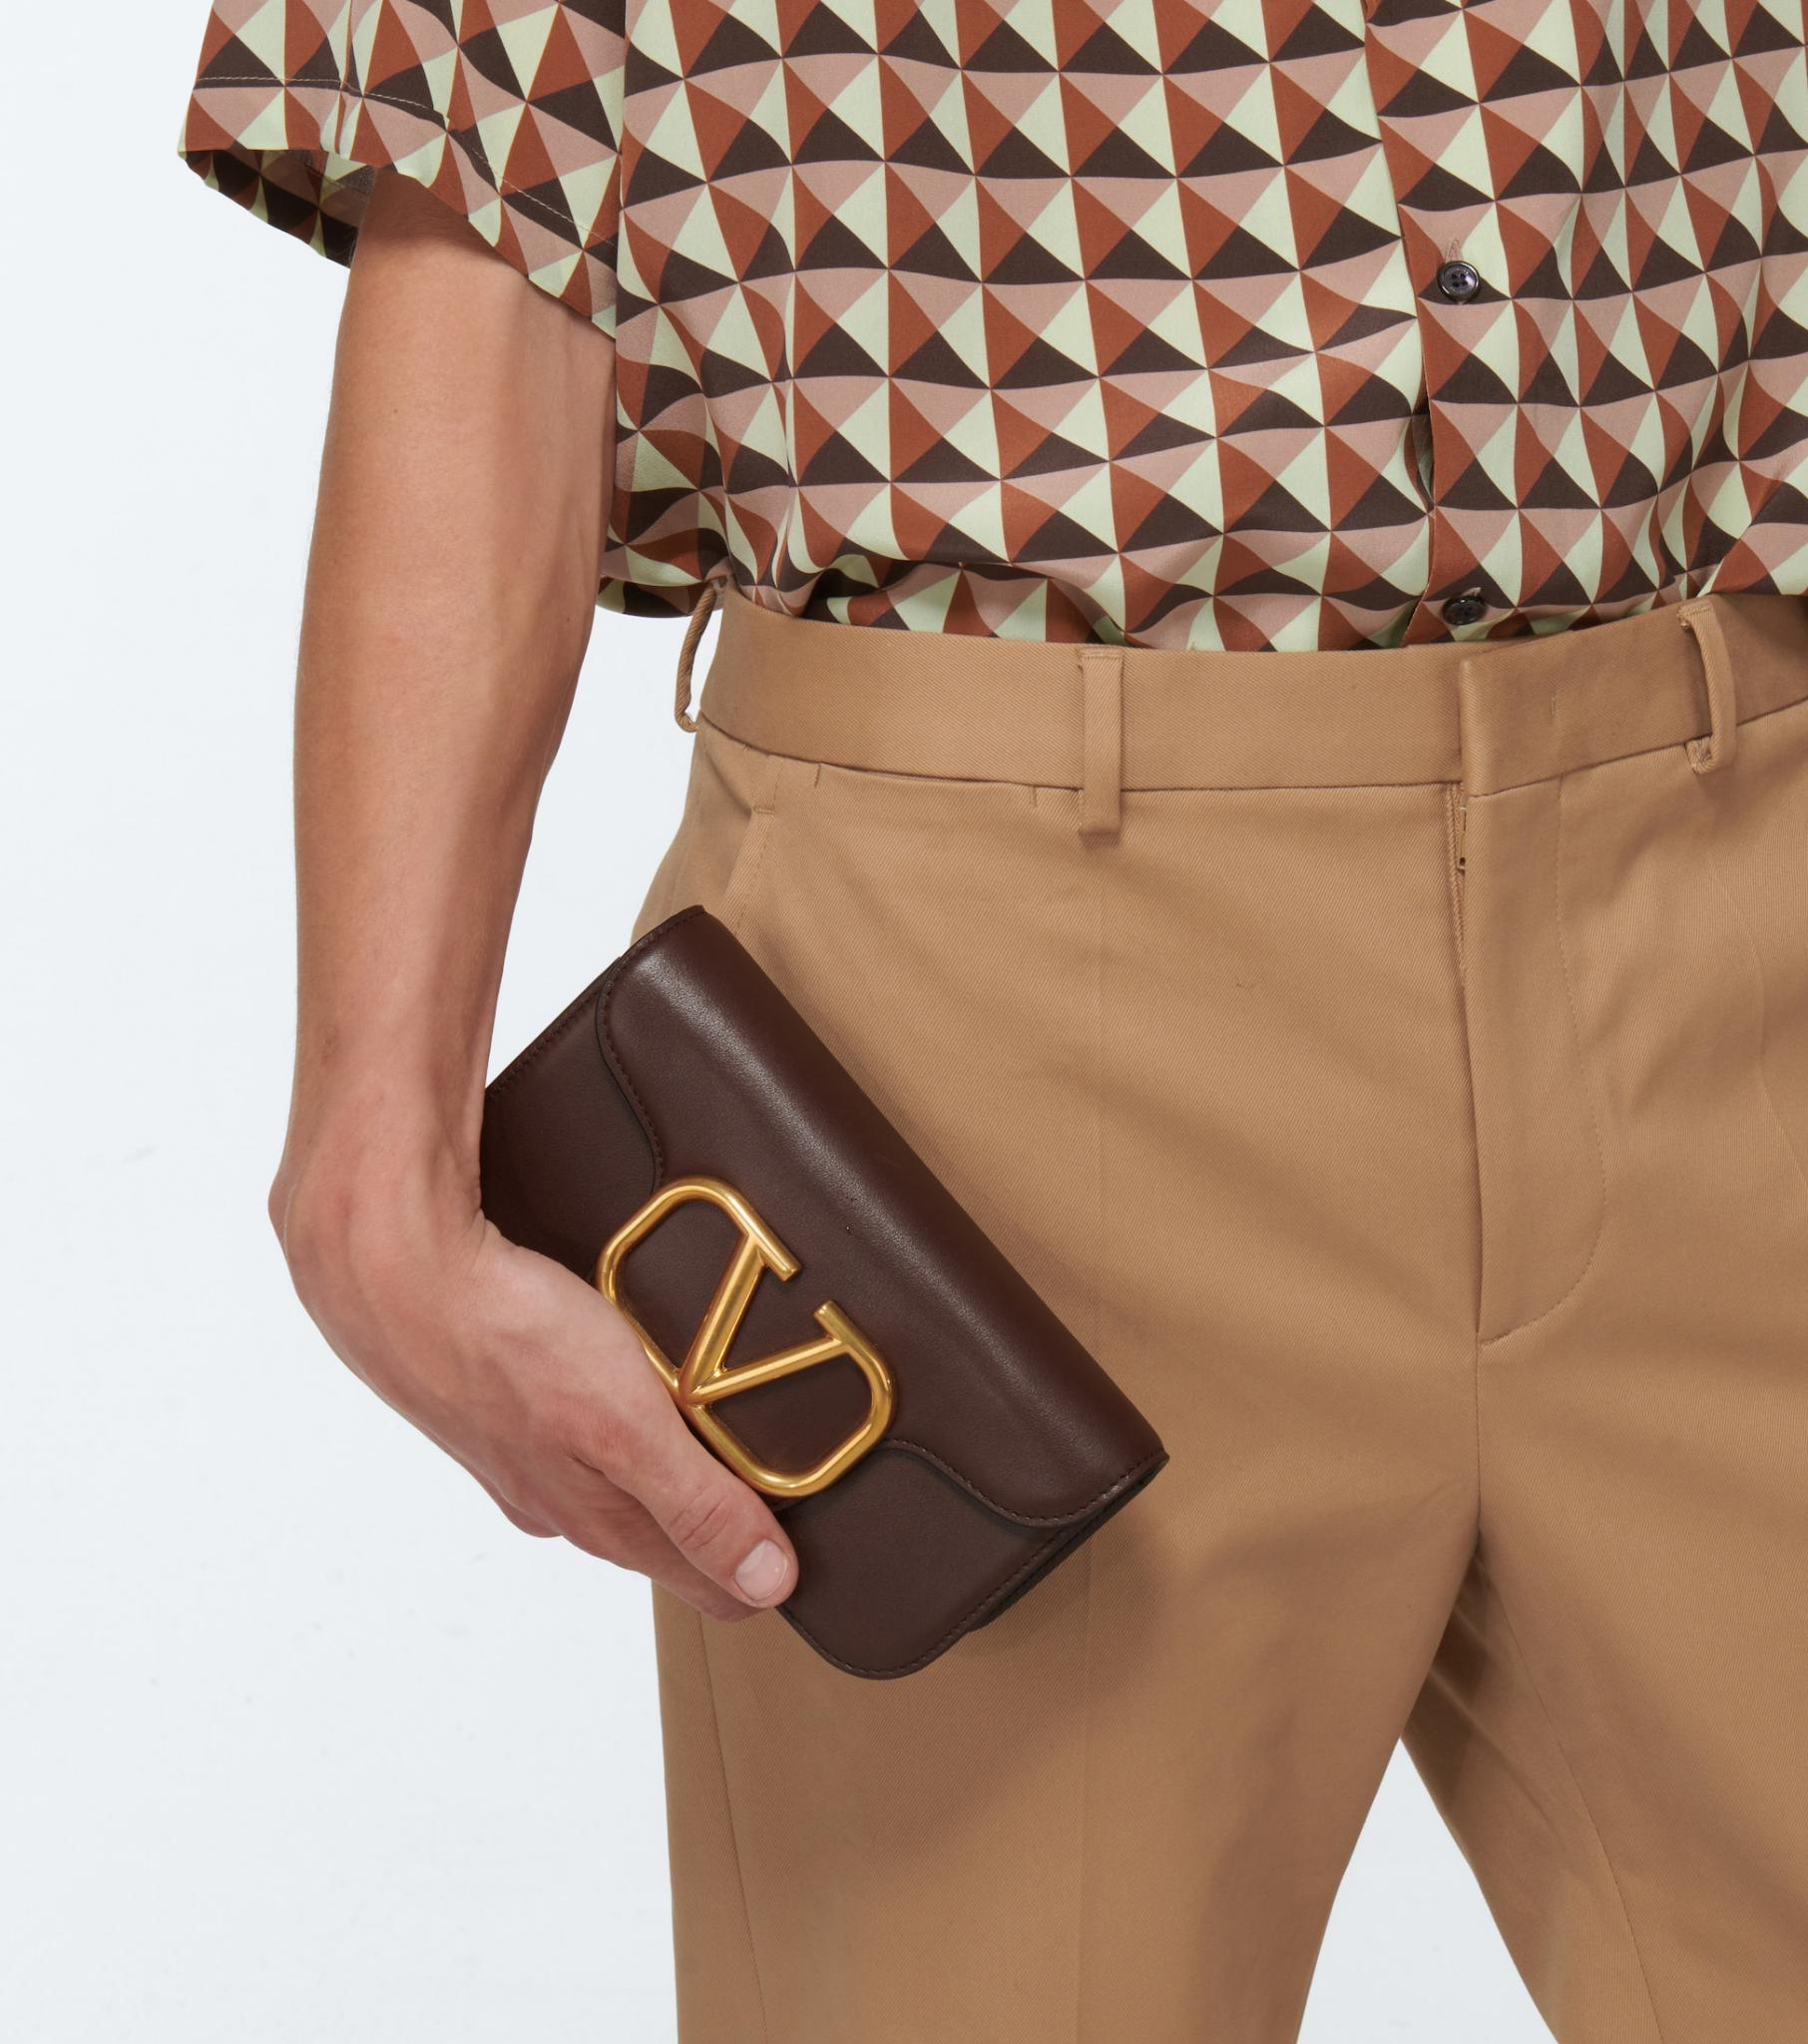VALENTINO: (597, 1173, 894, 1499)
